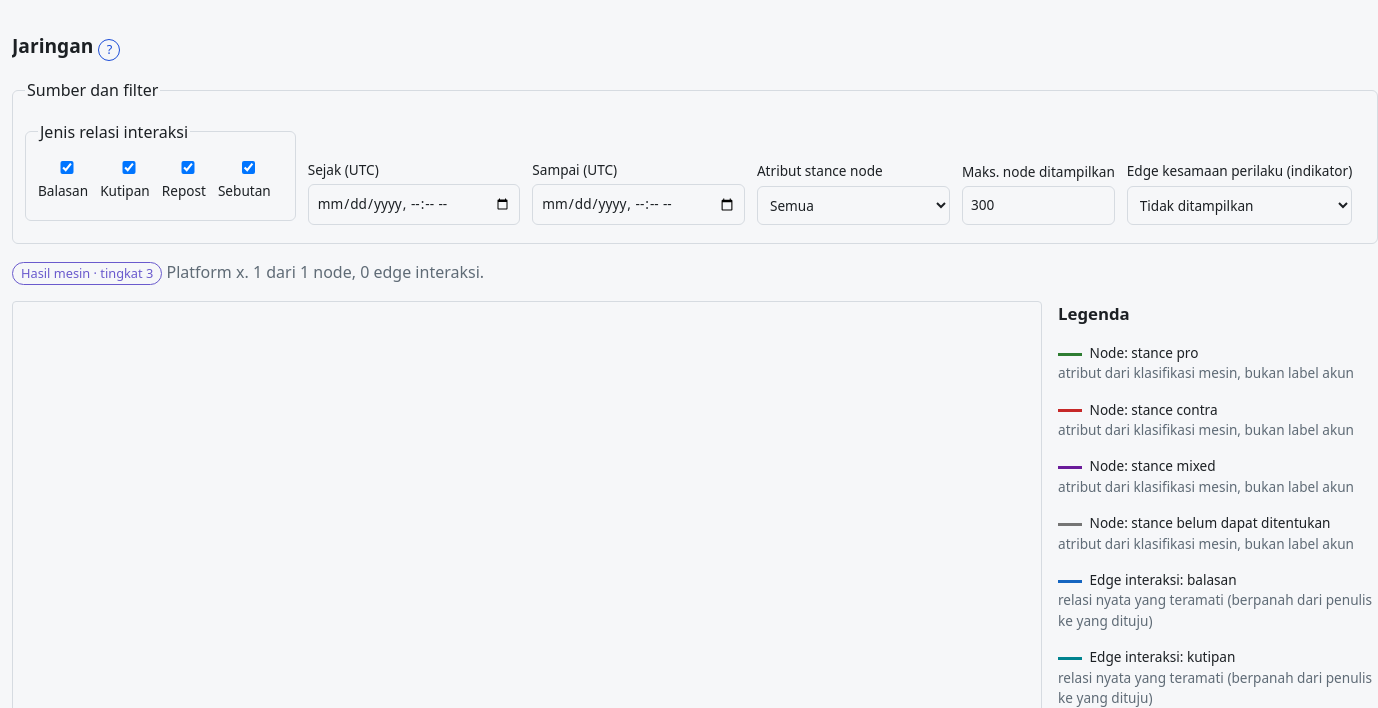
NetworkPanel: graf dan indikator tidak mencampur dataset atau platform (FR-081) › menolak data indikator dari dataset lain pada platform yang sama
Select "Run #11 (dataset 10)" in the dropdown named "Analisis indikator". click: (1240,205)
box: top-left (1127, 186), bottom-right (1352, 225)
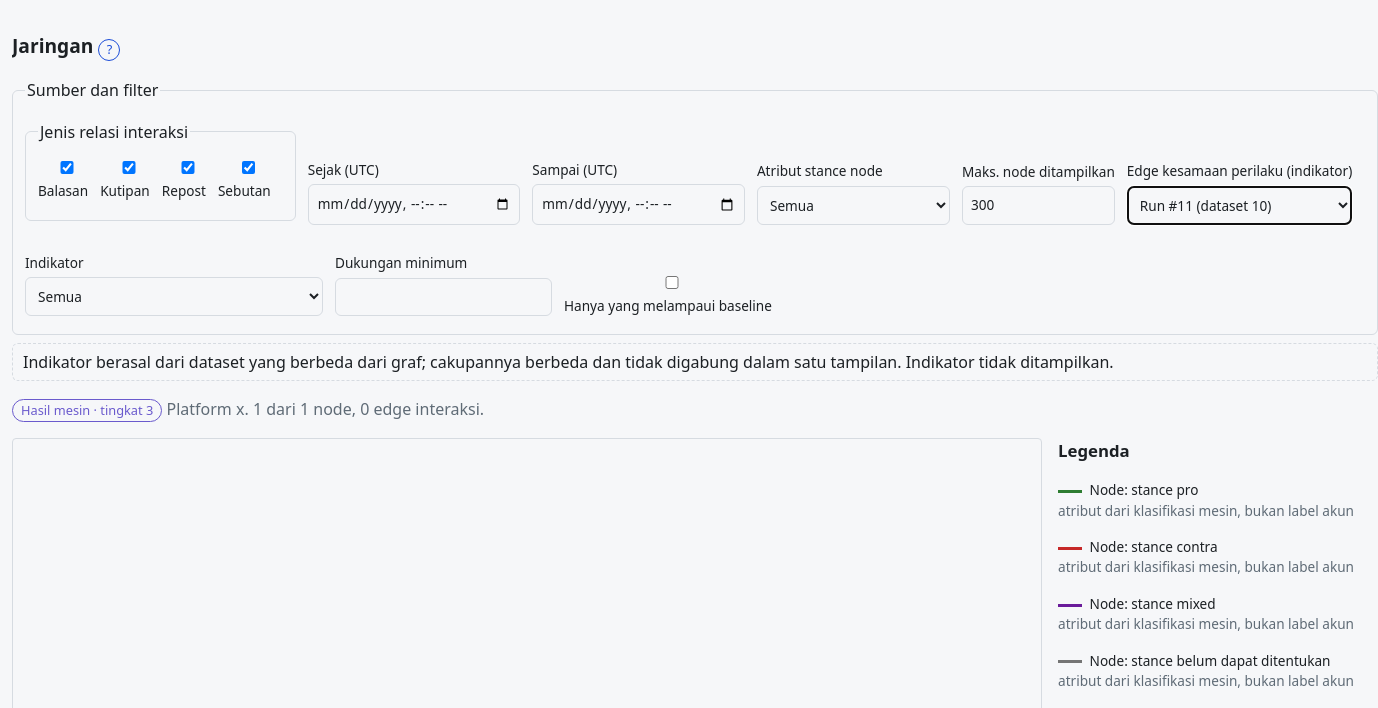
Result: the message shows "dataset yang berbeda" at top-left (23, 351), bottom-right (902, 373)
